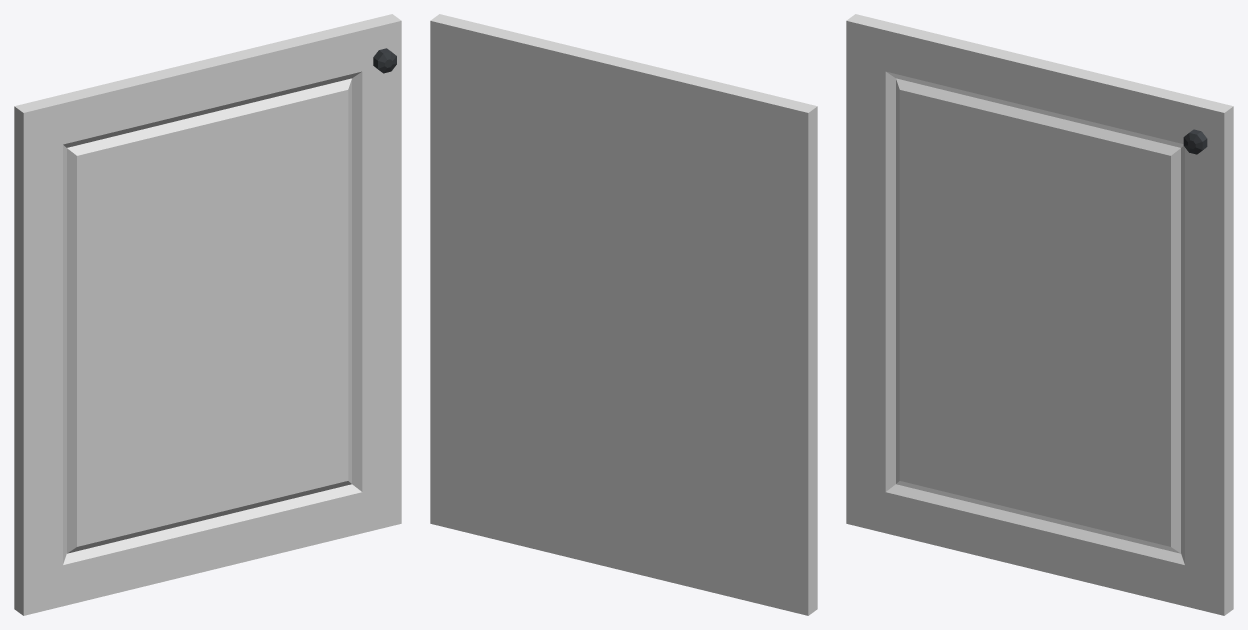
Rendered from Door3_C1_02.fbx.
3 views of the same model, side by side, from view 1: azimuth 30°, elevation 25°; view 2: azimuth 150°, elevation 25°; view 3: azimuth 330°, elevation 25° (orthographic).
Visible parts, largest first — view 1: Door3_C1_02; view 2: Door3_C1_02; view 3: Door3_C1_02.
Boxes of the visible parts, x1,y1,x2,y2 form: Door3_C1_02: (14, 14, 401, 615); Door3_C1_02: (430, 14, 817, 615); Door3_C1_02: (846, 14, 1233, 615).
Bounding box in the file's own units: 59 × 75 × 5.19.
